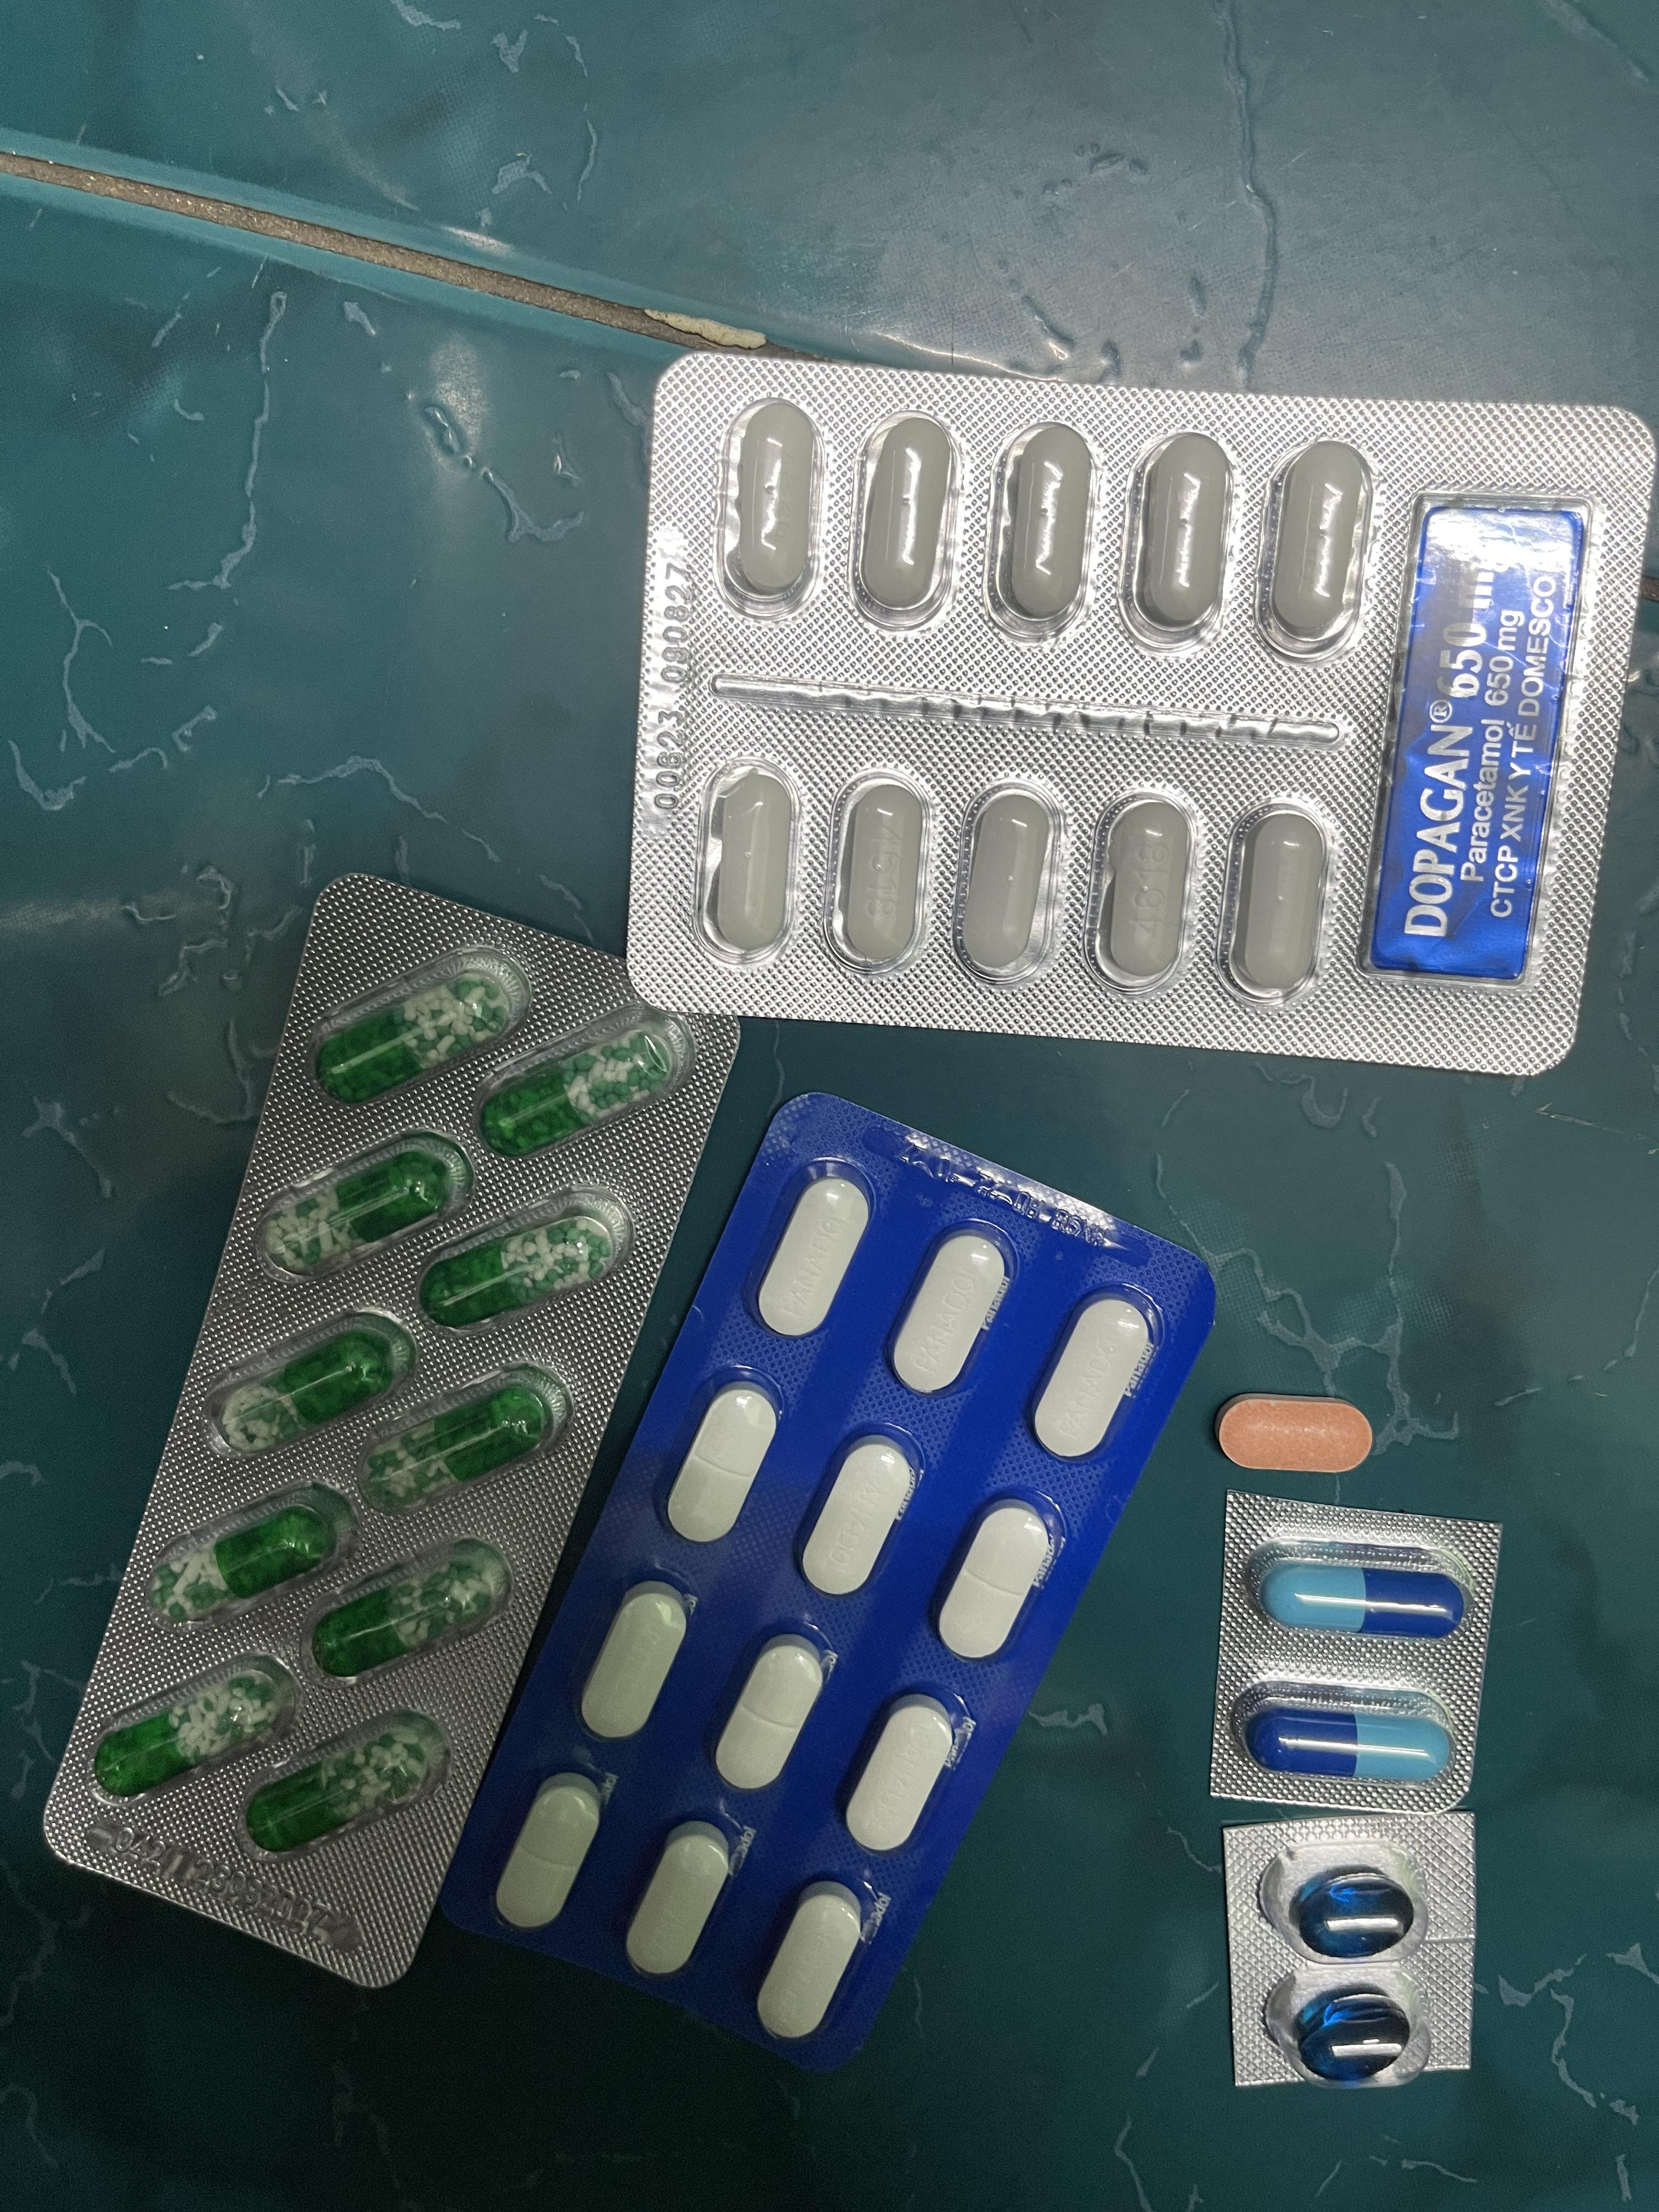Lincomyxin_500mg: (1293, 1869, 1420, 1958), (1295, 1989, 1413, 2080)
Loratadine_10mg: (1216, 1393, 1375, 1477)
Paracetamol_350mg: (1030, 1294, 1155, 1461), (889, 1228, 1012, 1395), (800, 1432, 920, 1601), (756, 1174, 871, 1341), (936, 1498, 1054, 1658), (845, 1693, 962, 1851), (667, 1379, 777, 1545), (580, 1585, 692, 1743), (716, 1635, 826, 1796), (760, 1885, 870, 2041), (627, 1824, 735, 1980), (497, 1775, 603, 1932)
Paracetamol_500mg: (1220, 799, 1337, 1007), (1086, 787, 1199, 996), (957, 779, 1070, 984), (824, 772, 934, 977), (1127, 434, 1230, 639), (1269, 442, 1373, 644), (857, 409, 957, 617), (999, 427, 1094, 631), (706, 770, 793, 953), (732, 409, 810, 601)
Paracetamol_650mg: (310, 1536, 516, 1677), (352, 1381, 554, 1517), (96, 1665, 295, 1796), (242, 1721, 441, 1851), (146, 1496, 349, 1623), (260, 1143, 458, 1271), (214, 1325, 410, 1453), (319, 975, 516, 1099), (423, 1207, 617, 1325), (490, 1040, 673, 1157)
pill: (1260, 1561, 1466, 1634), (1255, 1710, 1448, 1784)
